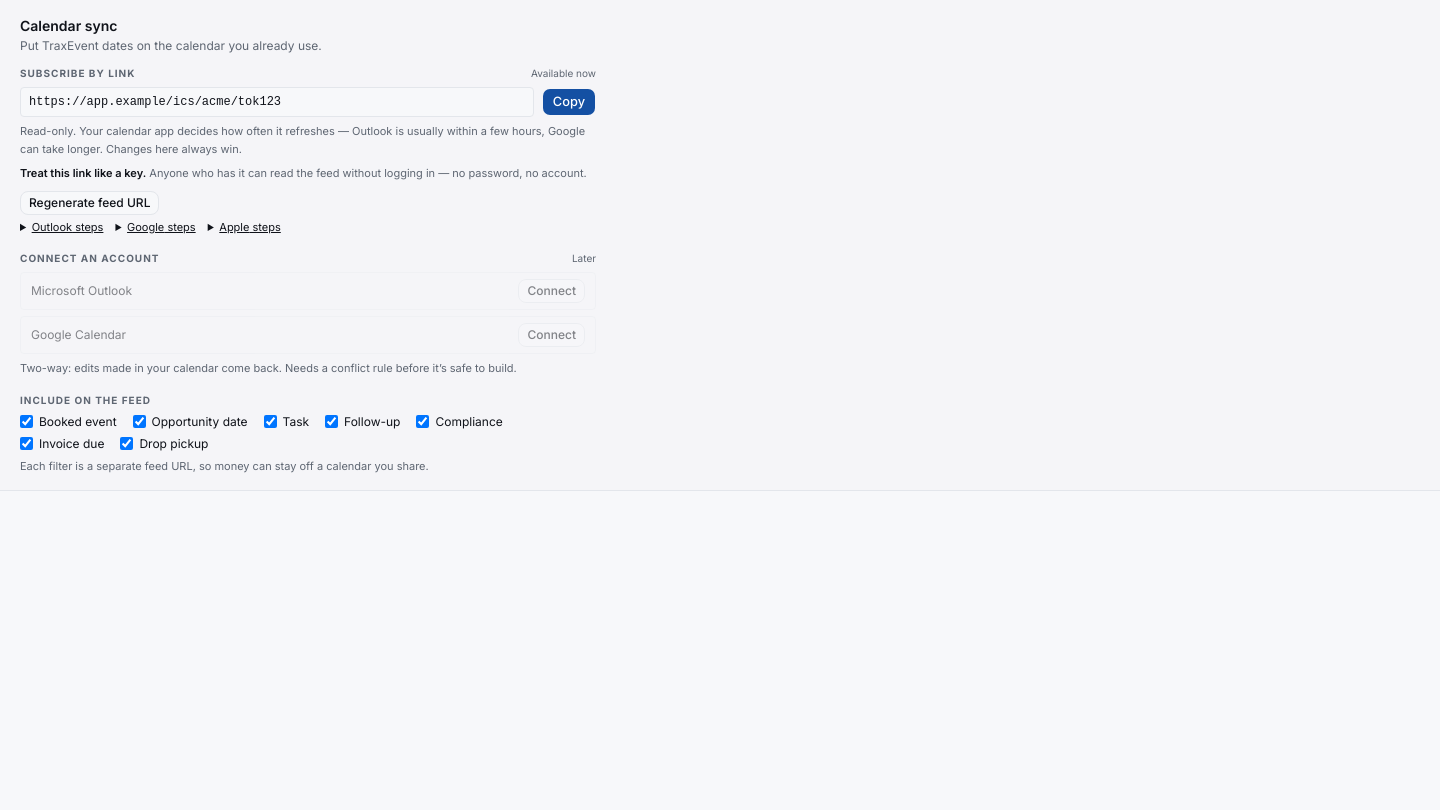
SubscribePanel › regenerate feed URL › is rendered for an admin, and confirms before firing — naming the consequence
Click the button "Regenerate feed URL" at (90, 203), box [20,191,159,215]
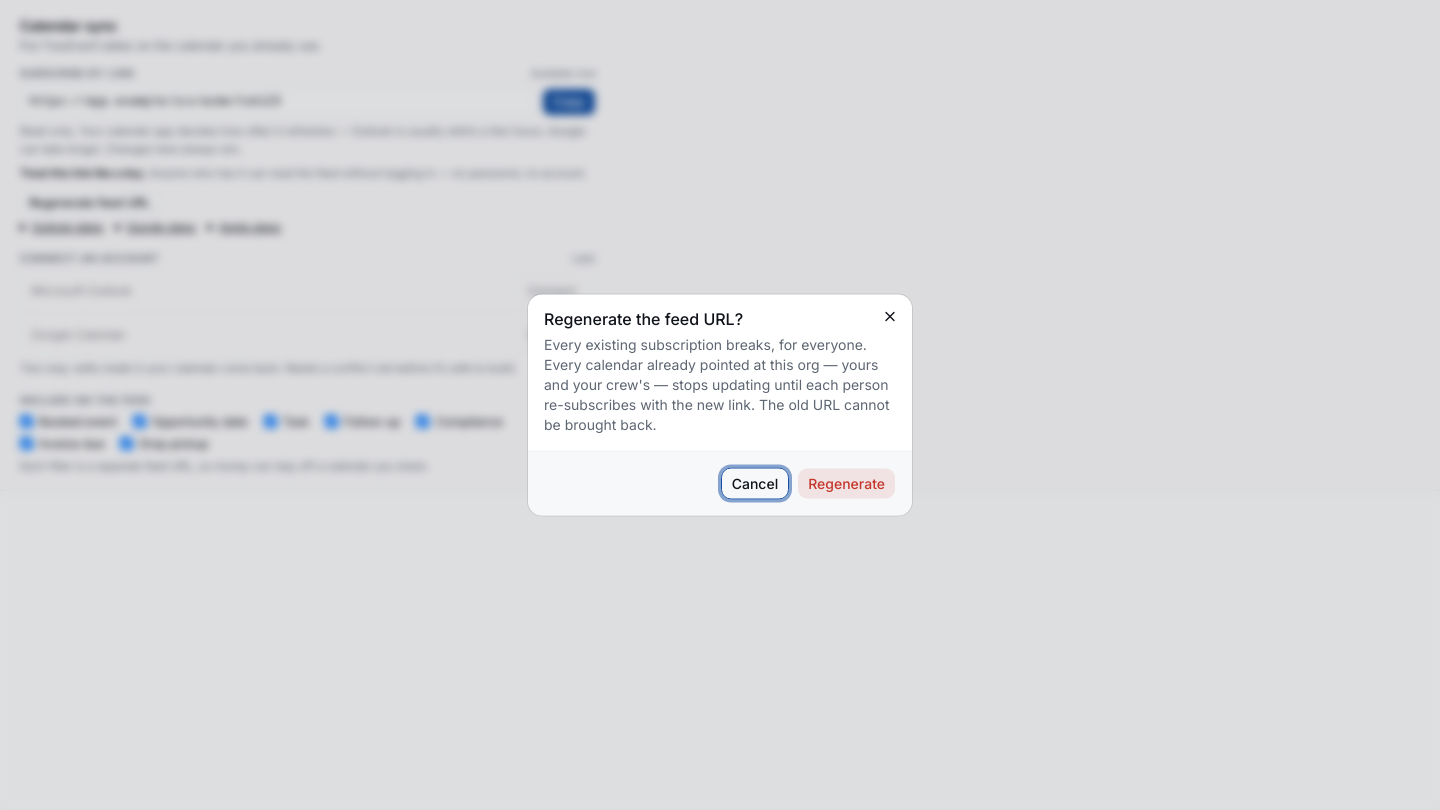
expect the text "Every existing subscription breaks, for everyone" is shown: met, box [544,336,890,432]
